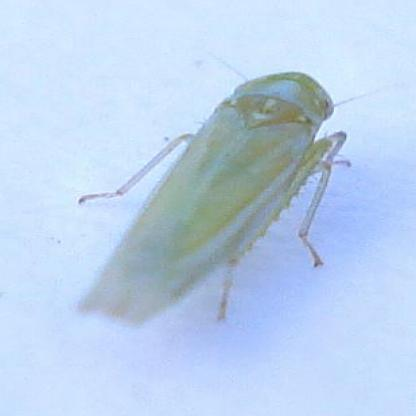green-leafhopper: (78, 70, 356, 324)
